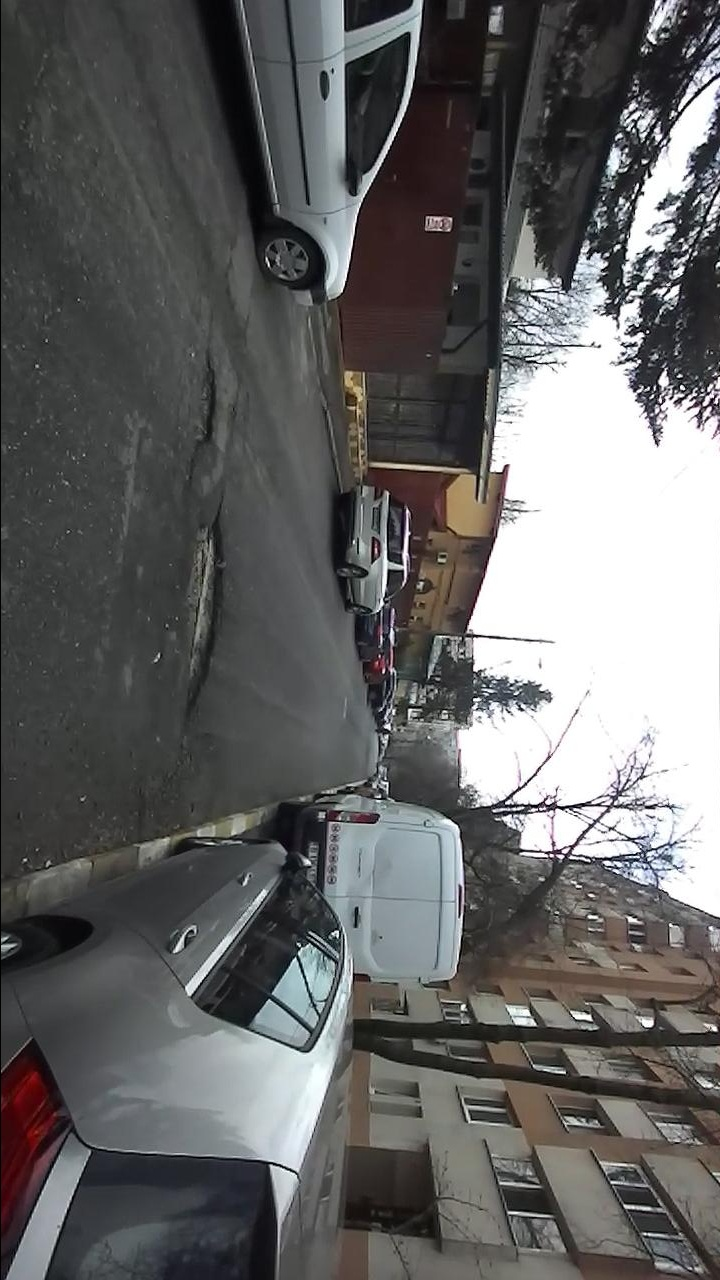pothole: (174, 492, 230, 741), (183, 344, 220, 484)
